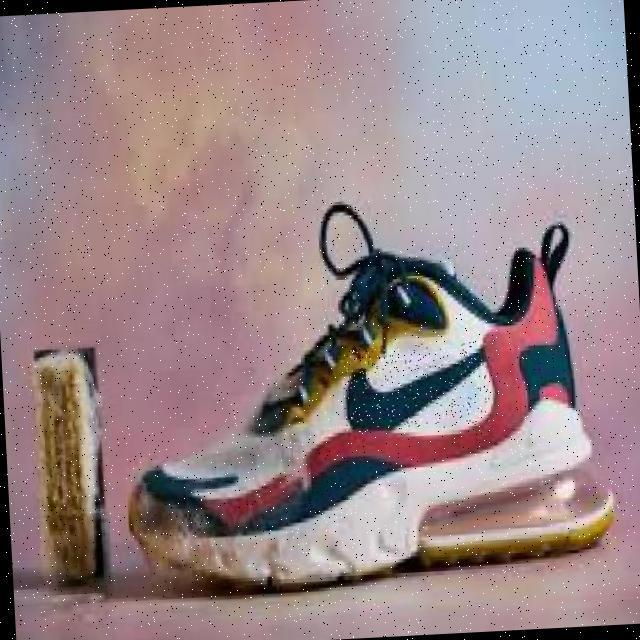Nike: (342, 341, 491, 433)
